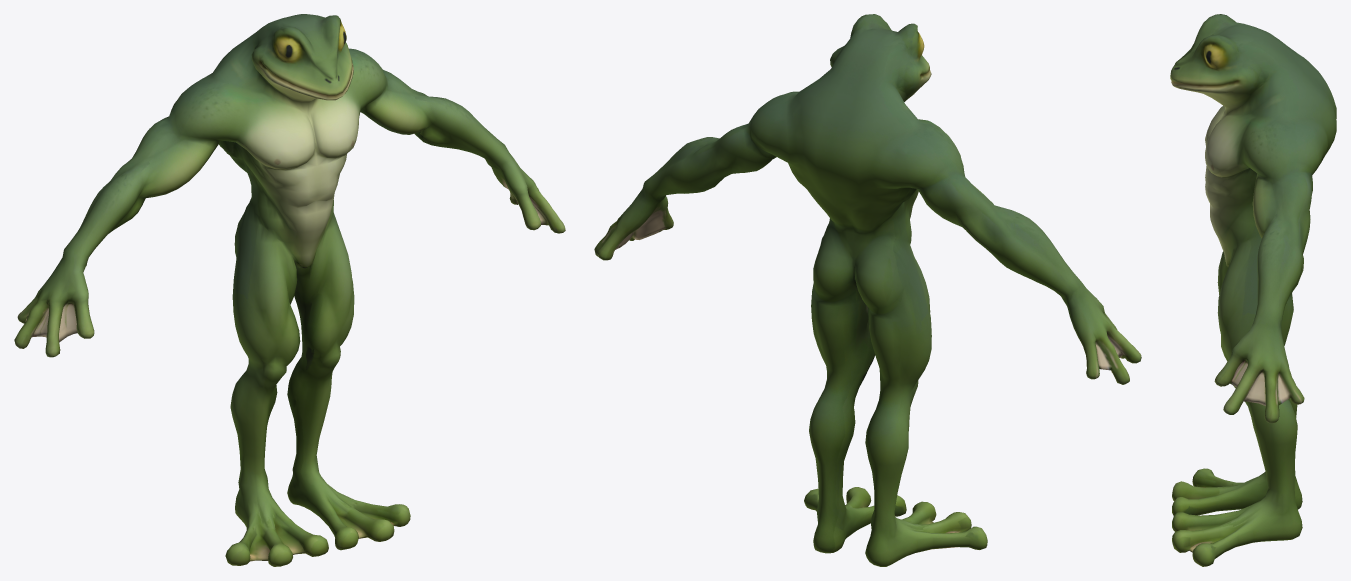
File: jab_2.glb
The picture shows the model from 3 angles, left to right: view 1: azimuth 30°, elevation 25°; view 2: azimuth 150°, elevation 25°; view 3: azimuth 270°, elevation 25°; orthographic projection. The views are drawn at different scales.
Visible parts, largest first — view 1: part_0000; view 2: part_0000; view 3: part_0000.
Boxes of the visible parts, left/top/right/bottom form: part_0000: left=14, top=14, right=565, bottom=566; part_0000: left=594, top=14, right=1141, bottom=566; part_0000: left=1170, top=14, right=1336, bottom=566.
Bounding box in the file's own units: 2.04 × 1.87 × 0.5642.
Materials: 1 (1 with a texture image).
